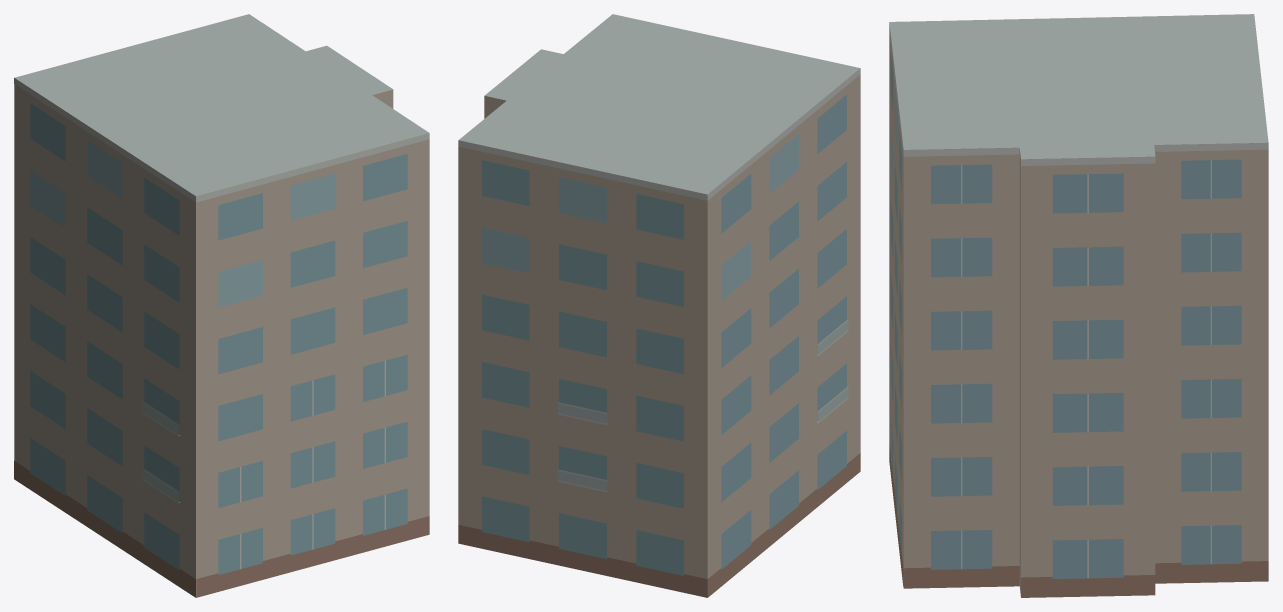
Rendered from survey-upis-32740739.glb.
3 views of the same model, side by side, from view 1: azimuth 30°, elevation 25°; view 2: azimuth 150°, elevation 25°; view 3: azimuth 270°, elevation 25° (orthographic). The views are drawn at different scales.
Visible parts, largest first — view 1: survey-upis-32740739.tmp; view 2: survey-upis-32740739.tmp; view 3: survey-upis-32740739.tmp.
Boxes of the visible parts, left/top/right/bottom form: survey-upis-32740739.tmp: left=14, top=14, right=429, bottom=597; survey-upis-32740739.tmp: left=458, top=14, right=860, bottom=597; survey-upis-32740739.tmp: left=889, top=14, right=1268, bottom=597.
Size of the model in its own units: 11.16 by 15.7 by 12.31.
